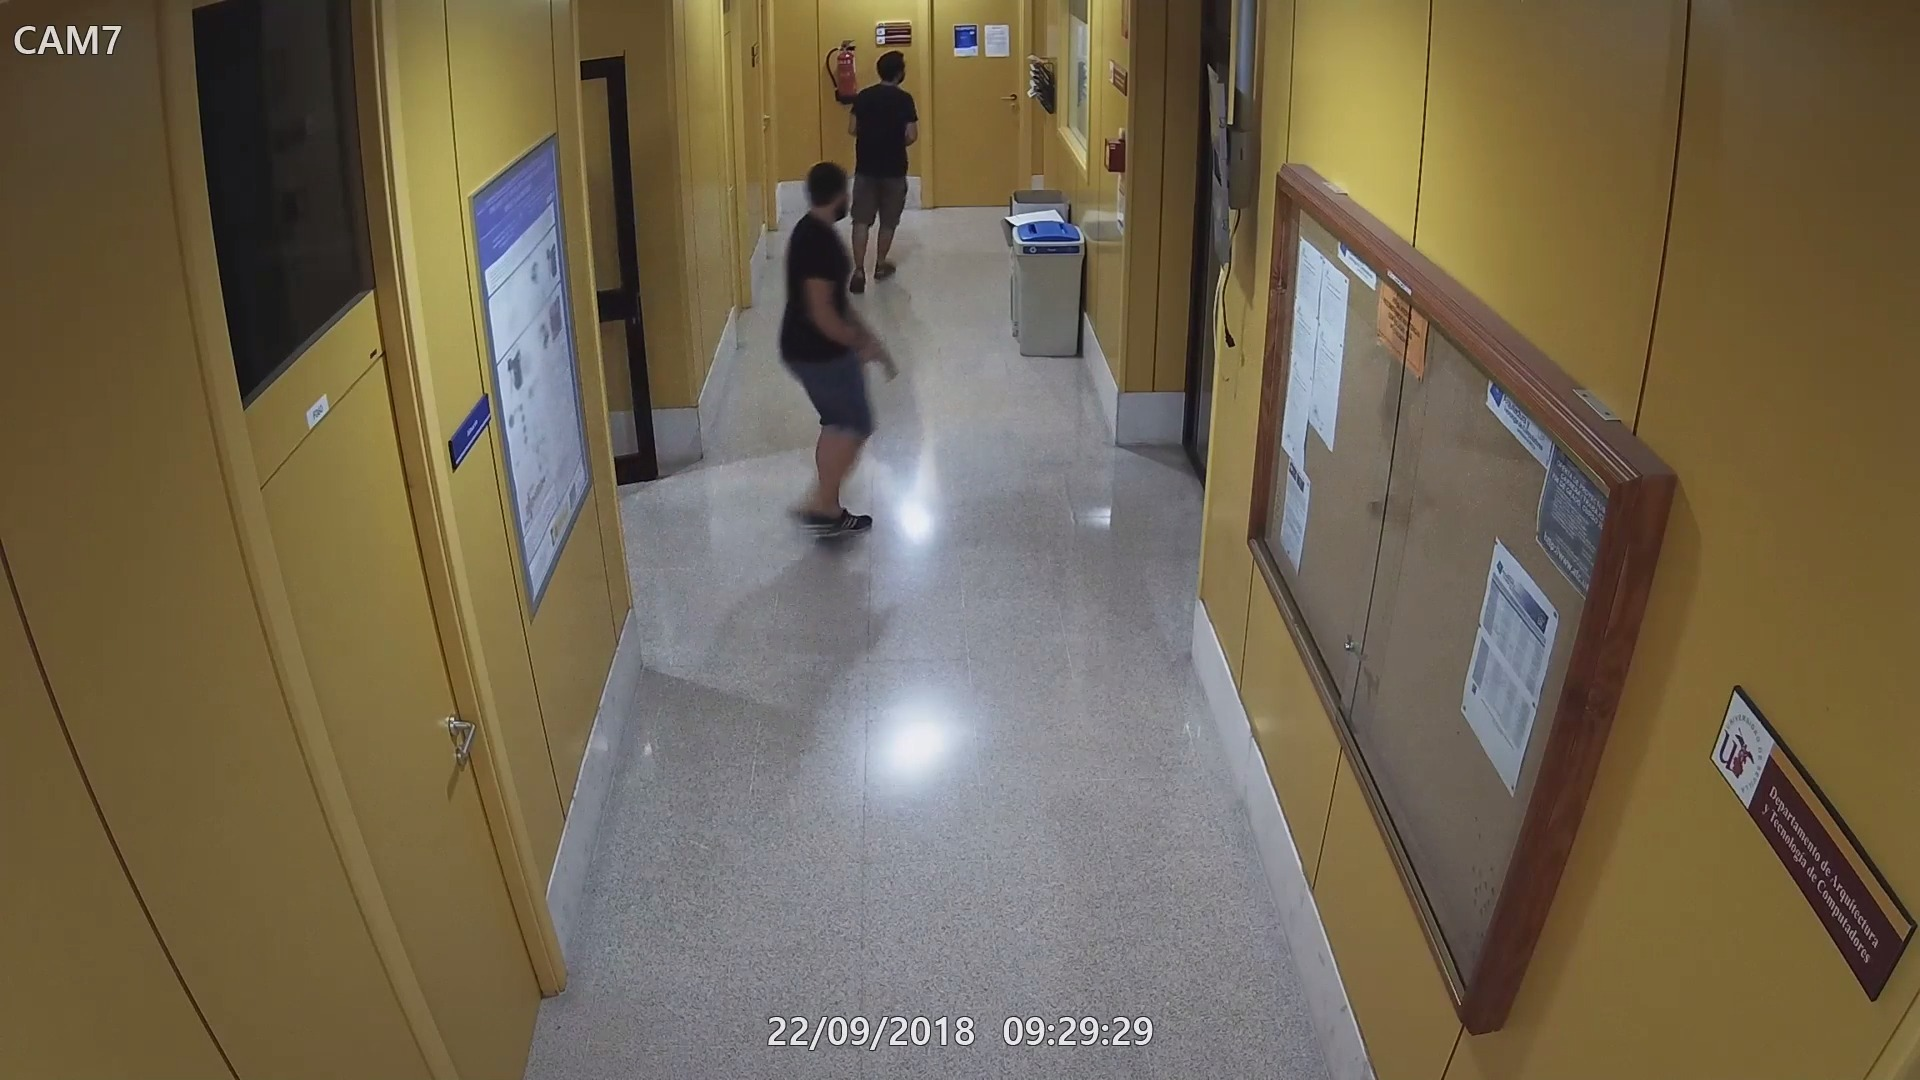Handgun: (860, 328, 901, 375)
